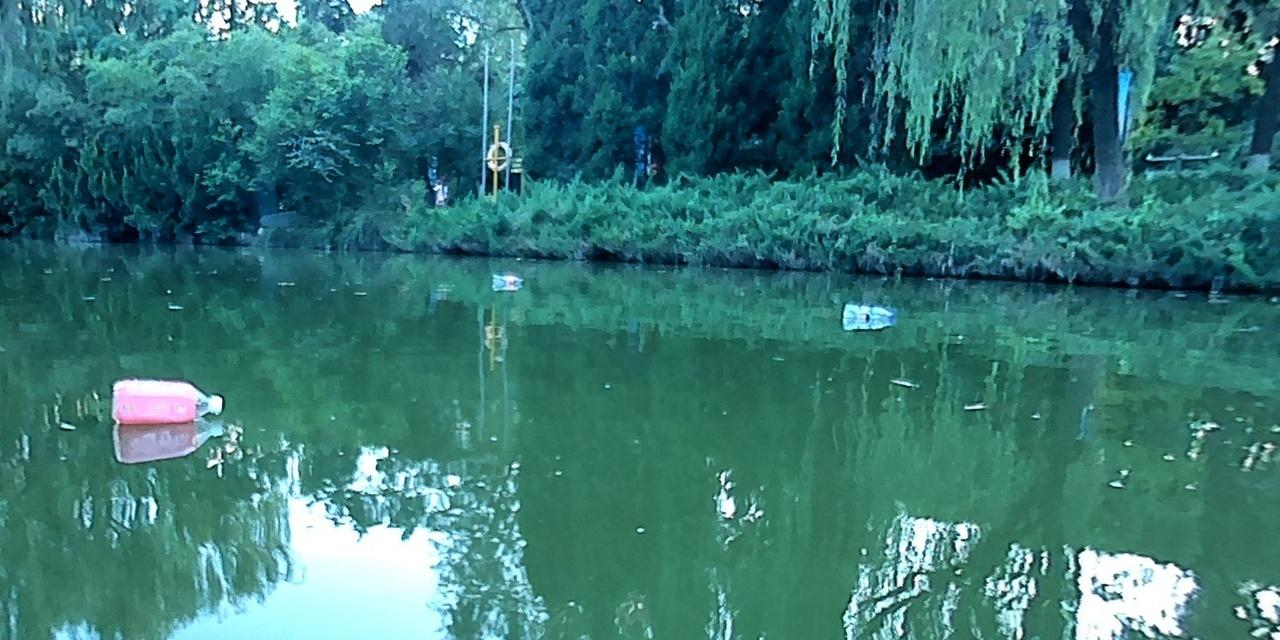bottle: (111, 374, 230, 422), (841, 301, 893, 321), (493, 272, 521, 286)
